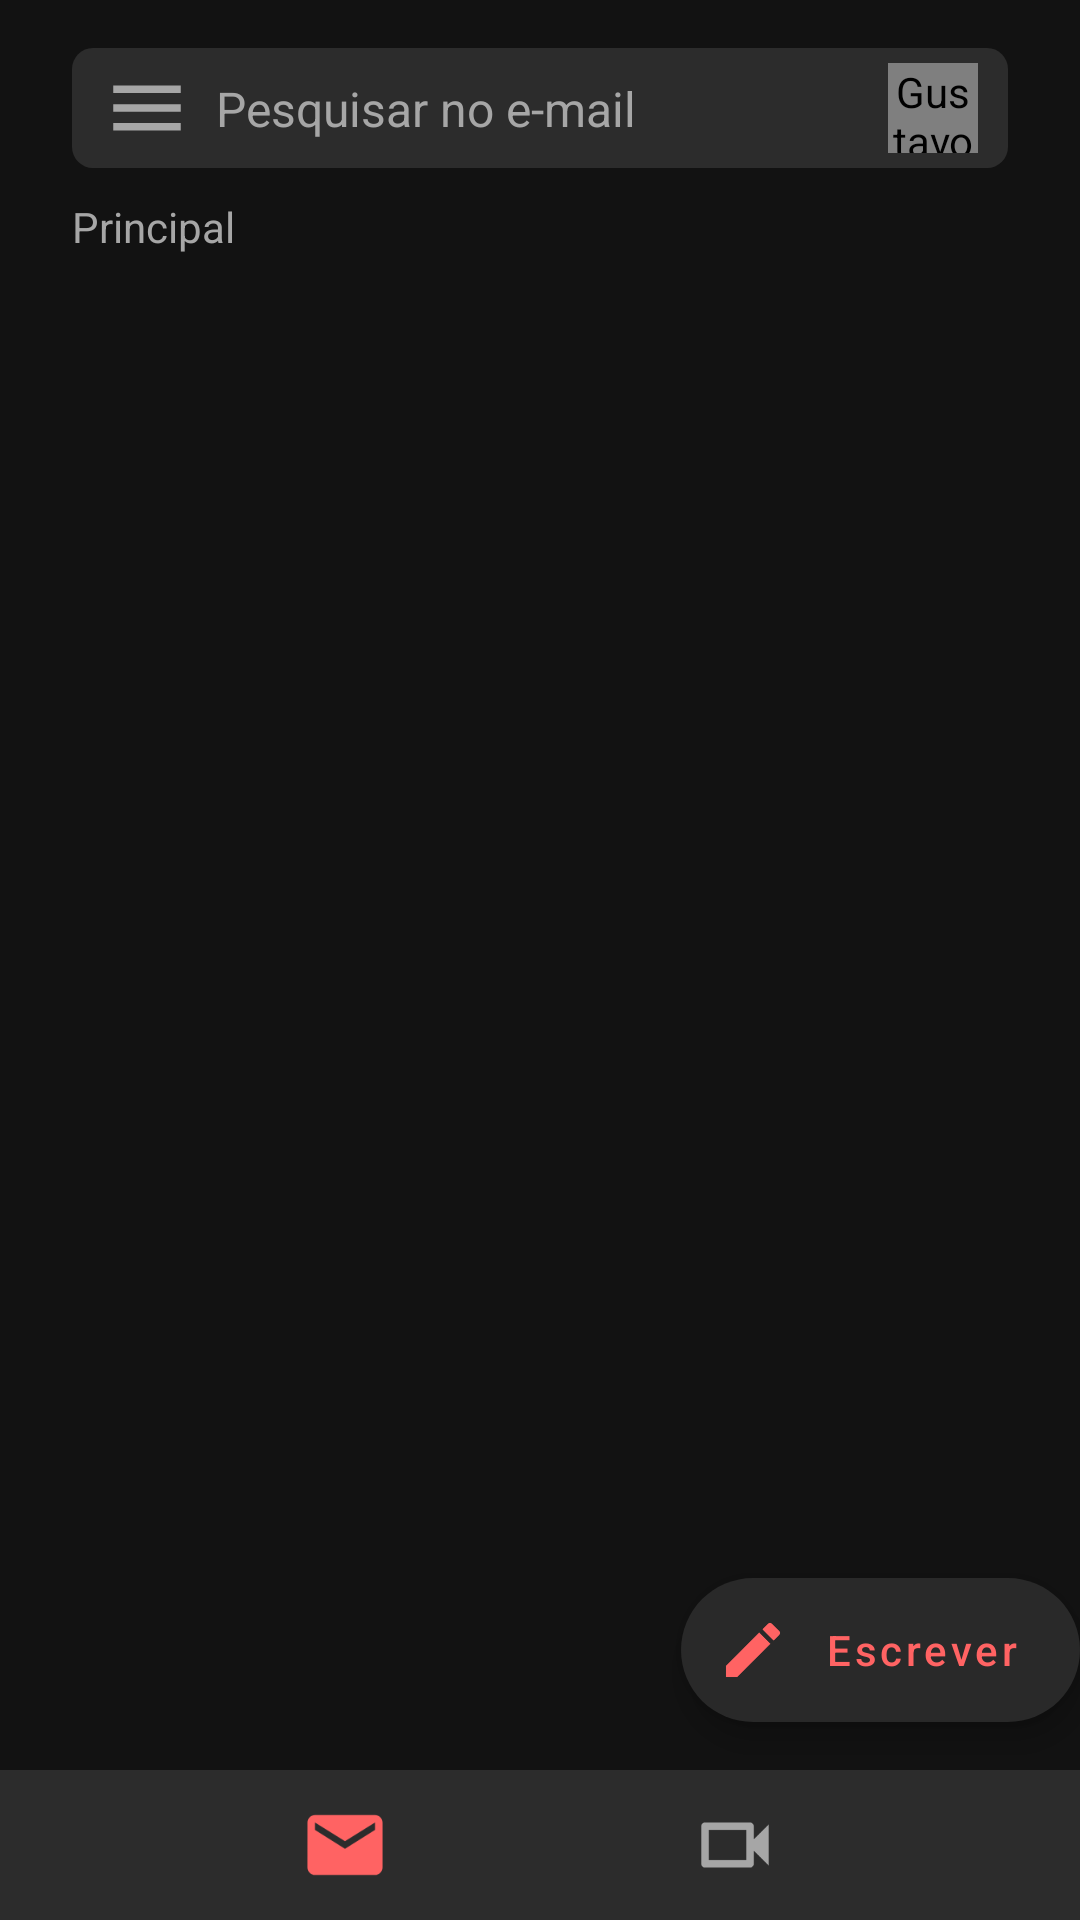

Named icons in this screenshot (1080 × 1920) and their centers, (x=x, y=y):
camera video: (x=735, y=1845)
Email: (x=345, y=1845)
Menu: (x=147, y=108)
